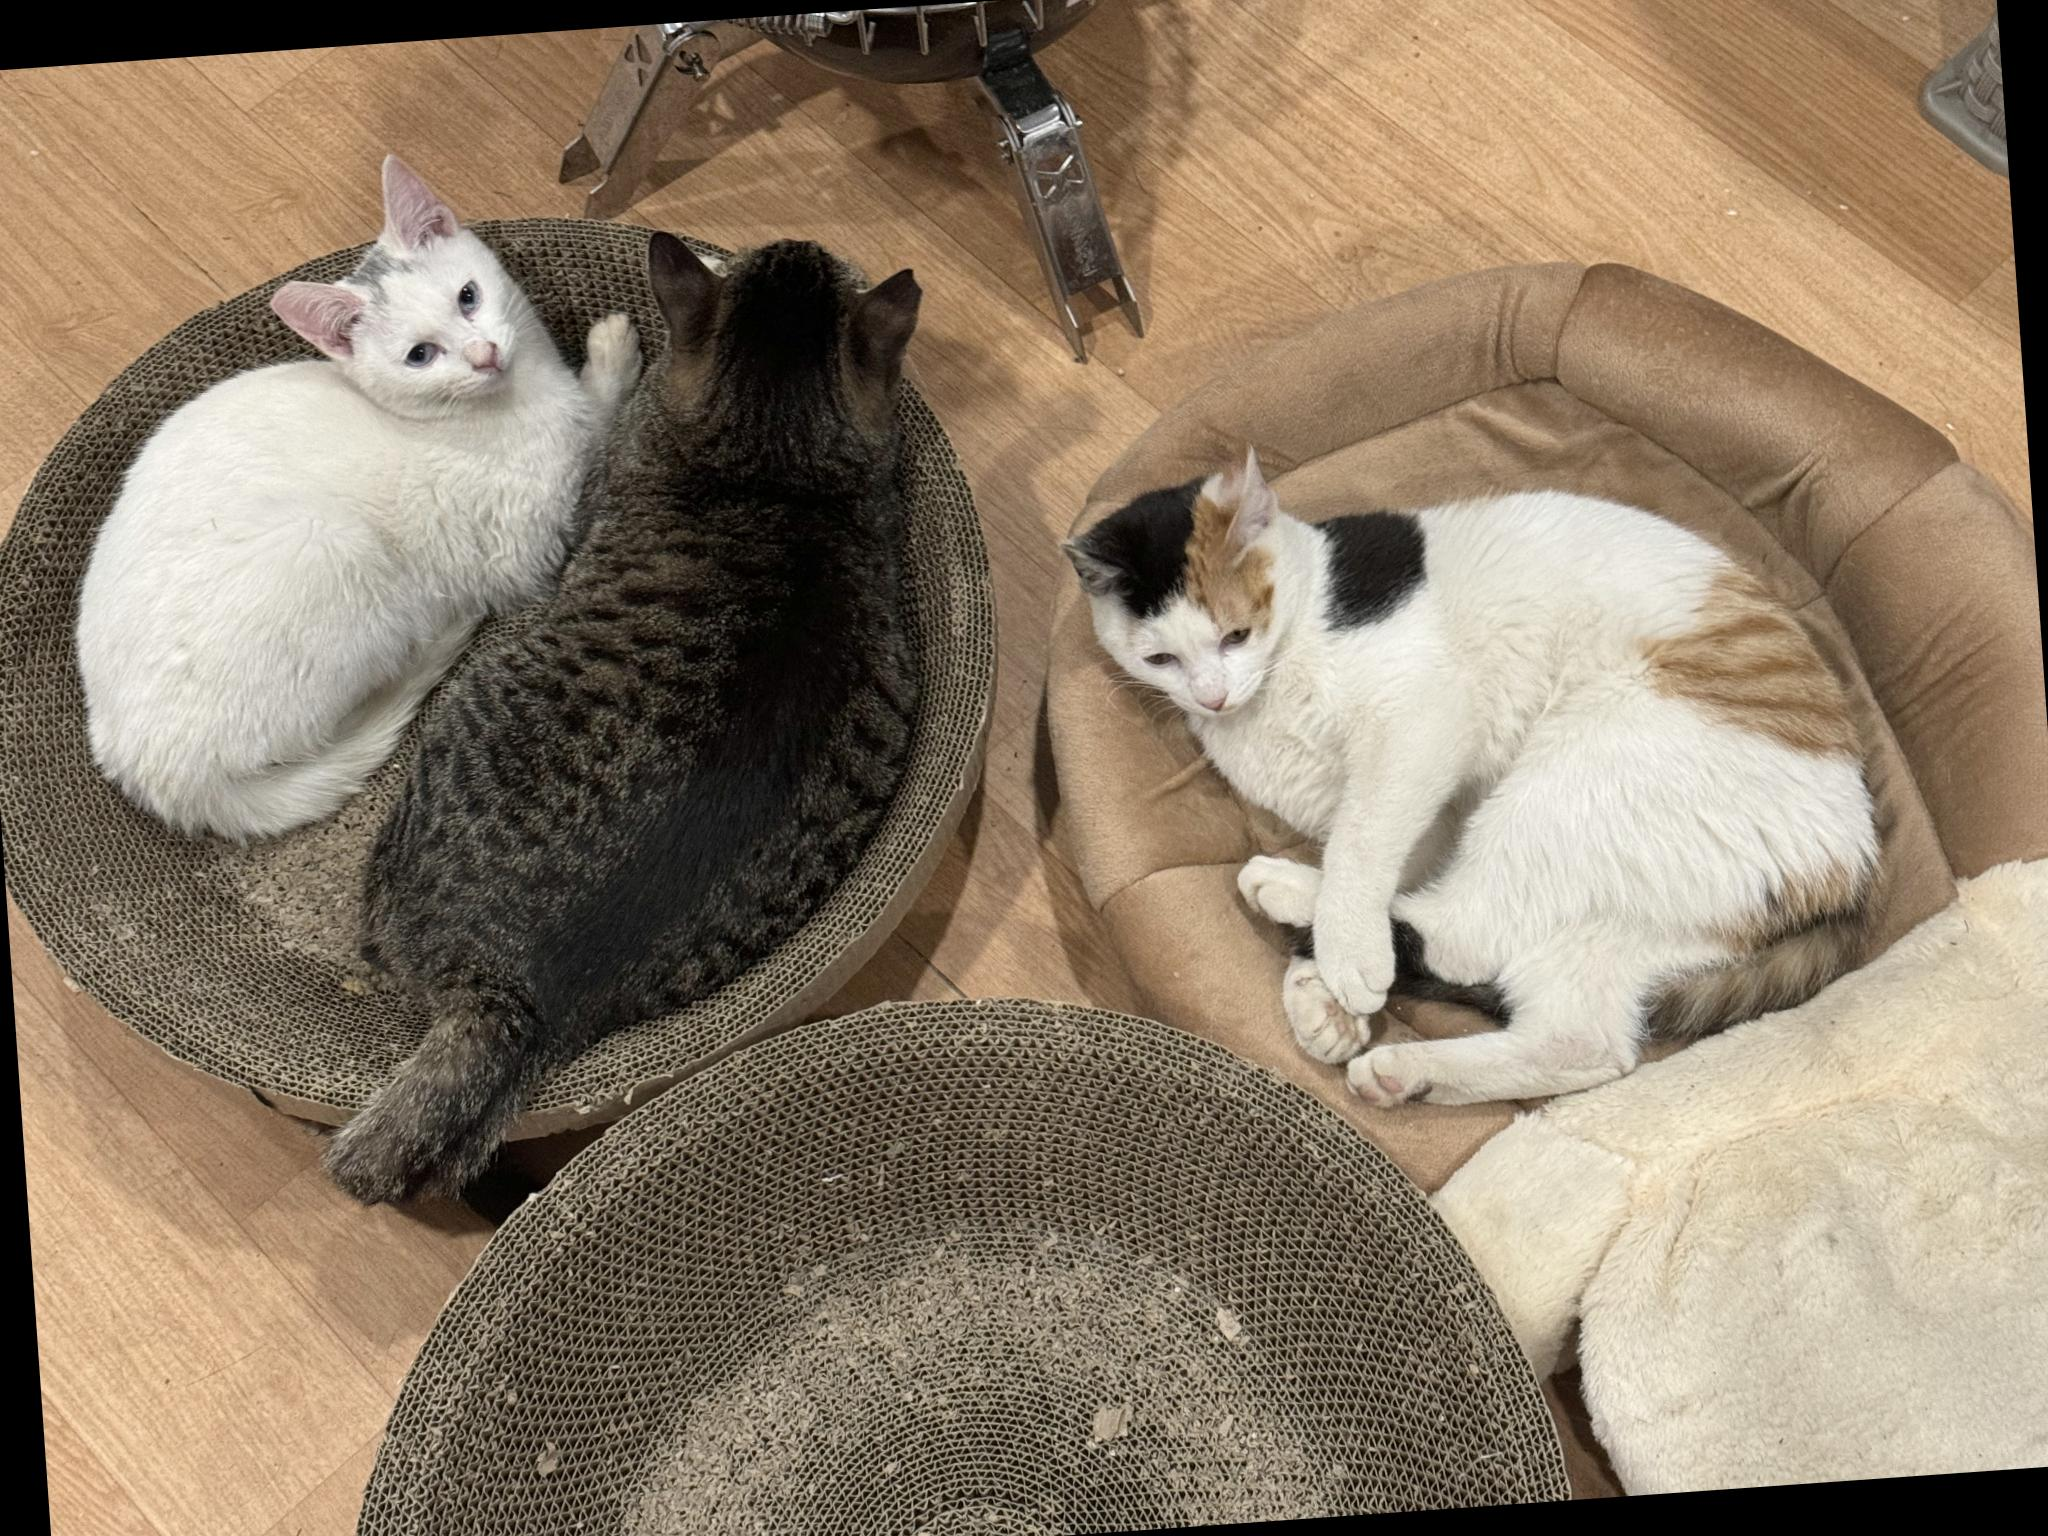cat: (929, 118, 1661, 976), (740, 1042, 1730, 1536), (664, 1350, 1356, 1536)
